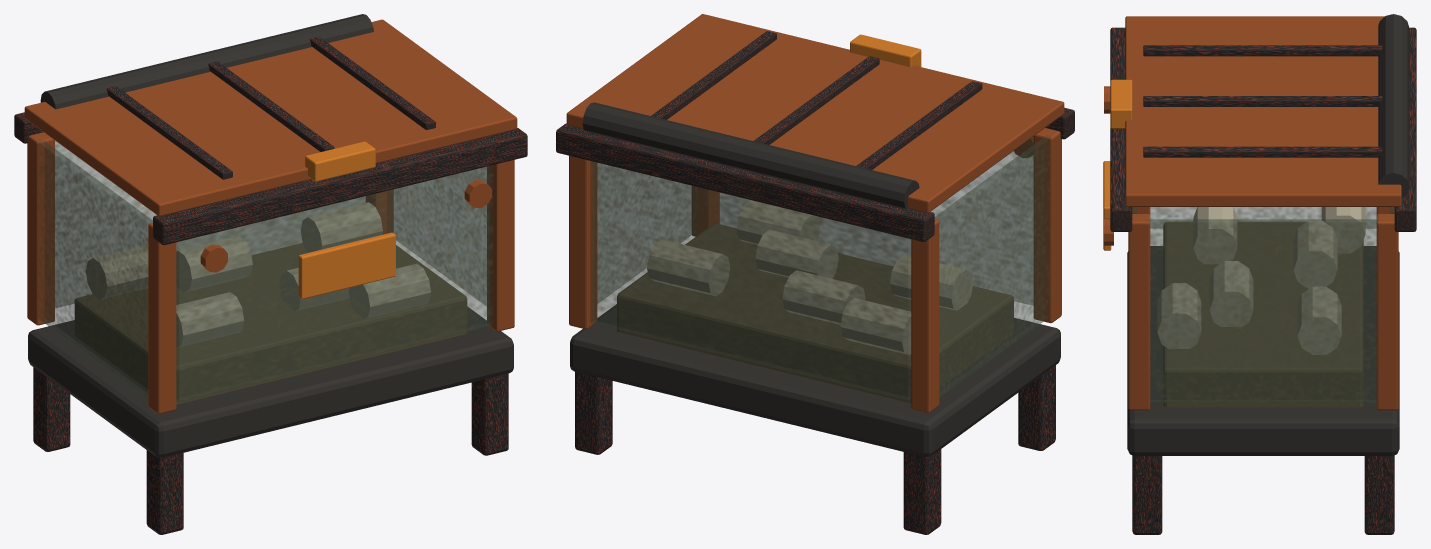
The model's file is grimy_culture_tray.glb.
The picture shows the model from 3 angles, left to right: view 1: azimuth 30°, elevation 25°; view 2: azimuth 150°, elevation 25°; view 3: azimuth 270°, elevation 25°; orthographic projection. The views are drawn at different scales.
Parts seen in each view (by area): view 1: Front dirty glass, Mesh lid rail, Tray lower steel cradle, Tray substrate, Left dirty glass, Back dirty glass, Tray front rail, Right dirty glass, Lid hinge tube, Tray corner brace.001, Tray corner brace, Tray corner brace.002 (+17 smaller); view 2: Back dirty glass, Mesh lid rail, Tray substrate, Tray lower steel cradle, Left dirty glass, Front dirty glass, Tray back rail, Lid hinge tube, Right dirty glass, Tray corner brace, Tray corner brace.001, Tray corner brace.003 (+14 smaller); view 3: Right dirty glass, Mesh lid rail, Tray substrate, Tray lower steel cradle, Lid hinge tube, Tray corner brace.002, Tray corner brace.003, Mesh lid bar.002, Mesh lid bar, Culture larva.003, Tray front rail, Culture larva.001 (+11 smaller).
Boxes of the visible parts, bbox=[...] form: Front dirty glass: bbox=[176, 165, 493, 401]; Mesh lid rail: bbox=[24, 19, 517, 216]; Tray lower steel cradle: bbox=[28, 307, 513, 457]; Tray substrate: bbox=[74, 243, 467, 404]; Left dirty glass: bbox=[38, 140, 152, 398]; Back dirty glass: bbox=[55, 140, 365, 307]; Tray front rail: bbox=[153, 128, 527, 244]; Right dirty glass: bbox=[387, 167, 486, 305]; Lid hinge tube: bbox=[40, 14, 373, 109]; Tray corner brace.001: bbox=[27, 132, 54, 325]; Tray corner brace: bbox=[148, 223, 176, 413]; Tray corner brace.002: bbox=[487, 160, 514, 331]; Back dirty glass: bbox=[590, 161, 911, 400]; Mesh lid rail: bbox=[566, 14, 1064, 212]; Tray substrate: bbox=[617, 223, 1013, 403]; Tray lower steel cradle: bbox=[570, 304, 1060, 456]; Left dirty glass: bbox=[934, 135, 1050, 397]; Front dirty glass: bbox=[719, 136, 1033, 305]; Tray back rail: bbox=[556, 123, 934, 241]; Lid hinge tube: bbox=[582, 102, 919, 209]; Right dirty glass: bbox=[597, 163, 697, 302]; Tray corner brace: bbox=[1033, 128, 1061, 323]; Tray corner brace.001: bbox=[911, 219, 939, 412]; Tray corner brace.003: bbox=[569, 155, 597, 329]; Right dirty glass: bbox=[1147, 219, 1379, 402]; Mesh lid rail: bbox=[1125, 16, 1401, 206]; Tray substrate: bbox=[1163, 221, 1363, 407]; Tray lower steel cradle: bbox=[1127, 246, 1399, 455]; Lid hinge tube: bbox=[1378, 14, 1409, 197]; Tray corner brace.002: bbox=[1128, 214, 1150, 410]; Tray corner brace.003: bbox=[1376, 214, 1398, 410]; Mesh lid bar.002: bbox=[1143, 146, 1382, 157]; Mesh lid bar: bbox=[1143, 45, 1382, 56]; Culture larva.003: bbox=[1297, 286, 1341, 354]; Tray front rail: bbox=[1110, 27, 1132, 231]; Culture larva.001: bbox=[1293, 220, 1337, 288].
Size of the model in its own units: 1.08 by 0.98 by 0.7825.
Materials: 7 (2 with a texture image).
